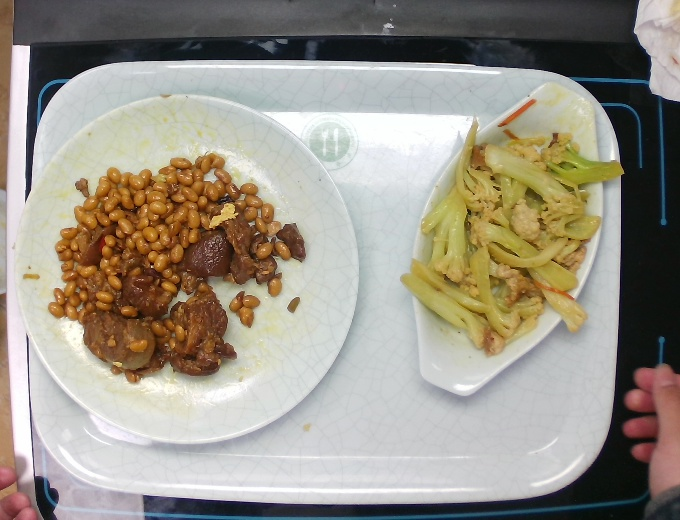JYsf-Da_Yuan_Pan: (1, 82, 367, 449)
JYsf-Yu_Pan: (389, 80, 627, 397)
